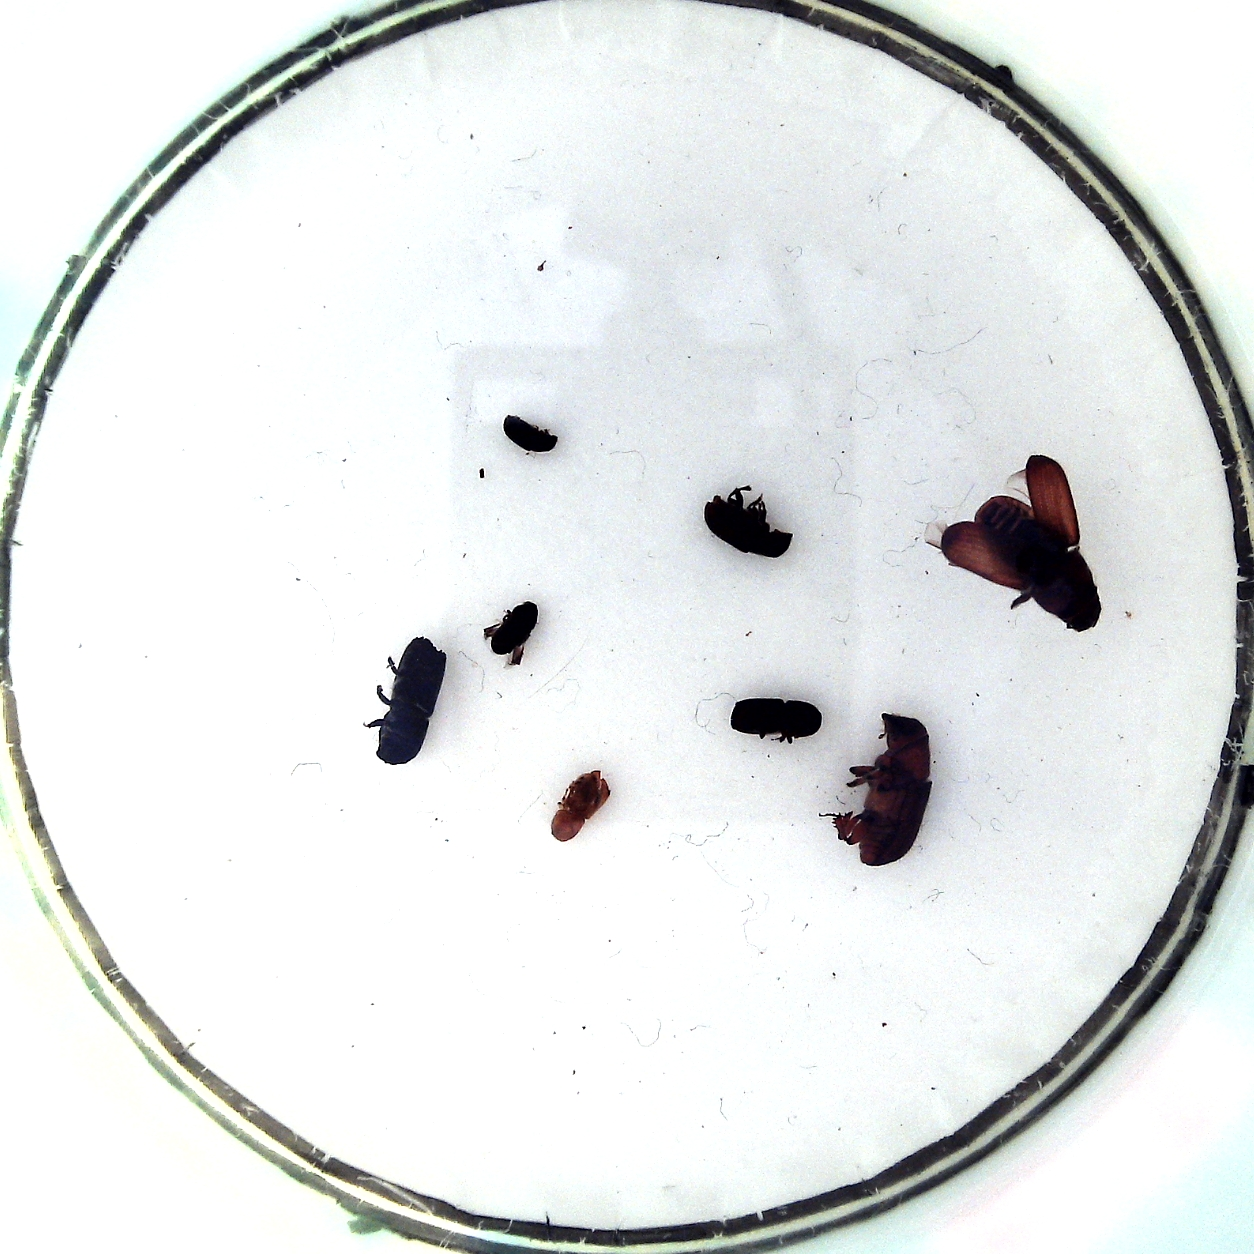Boerner: (376, 635, 447, 764)
Leconte: (973, 495, 1102, 633), (861, 713, 932, 865)
acuminatus: (491, 602, 539, 655)
armandi: (704, 491, 794, 558)
coleoptera: (552, 768, 611, 842), (503, 415, 558, 452)
linnaeus: (731, 697, 822, 740)
